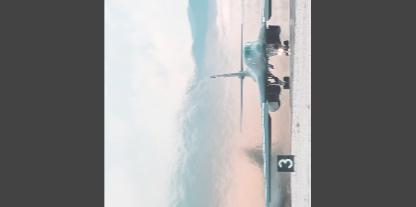AV8B: (209, 0, 290, 206), (243, 126, 293, 206)
